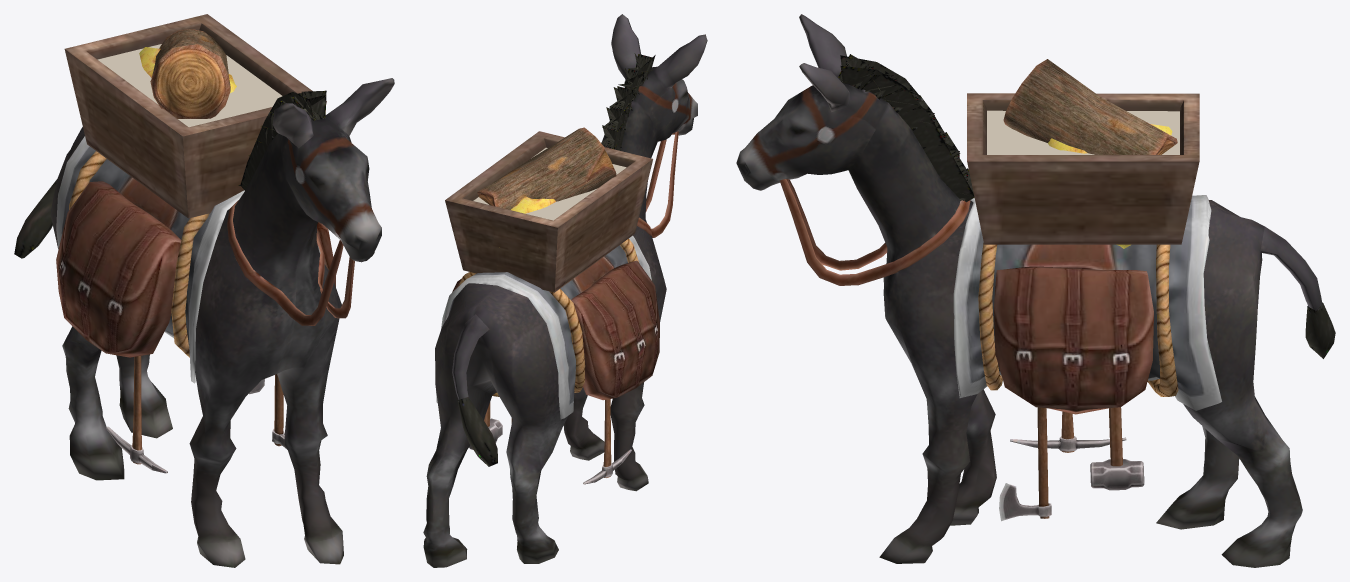
The model's file is donkey-base.glb.
The picture shows the model from 3 angles, left to right: view 1: azimuth 30°, elevation 25°; view 2: azimuth 150°, elevation 25°; view 3: azimuth 270°, elevation 25°; orthographic projection. The views are drawn at different scales.
Bounding box in the file's own units: 1.02 × 2.18 × 2.36.
7 materials, 6 textured.
